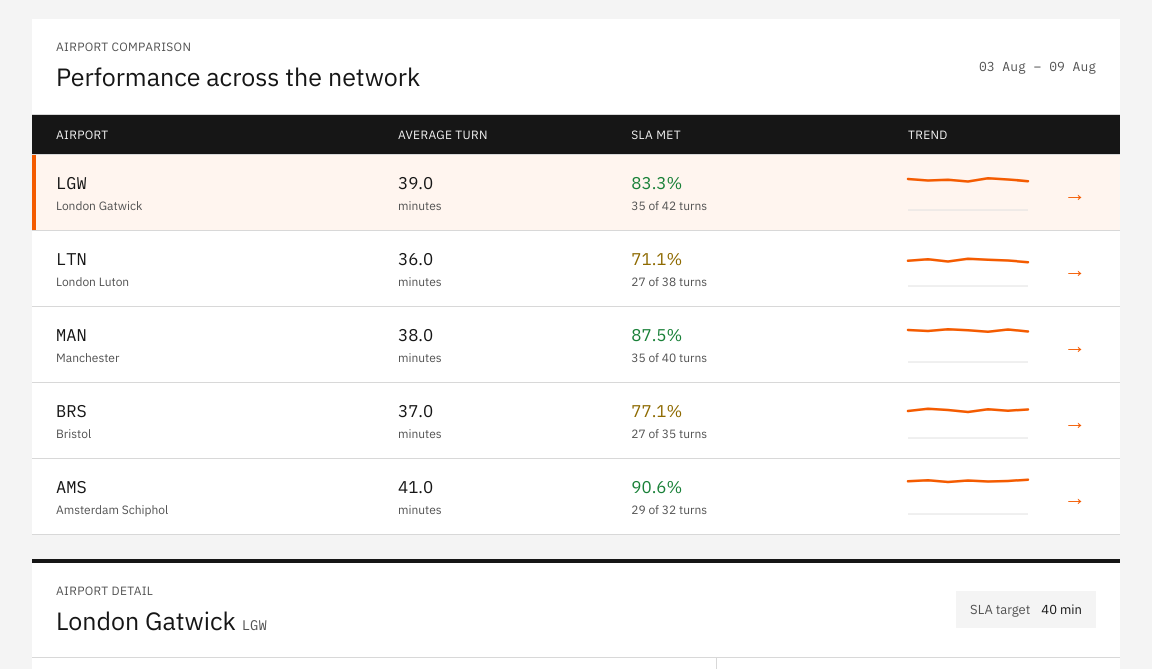
Test: aircraft turn dashboard › loads detailed turns when an airport is selected
(page scrolled)
Click the button with aria-label "View Manchester performance" at (71, 335), box [32,307,1120,383]
(page scrolled)
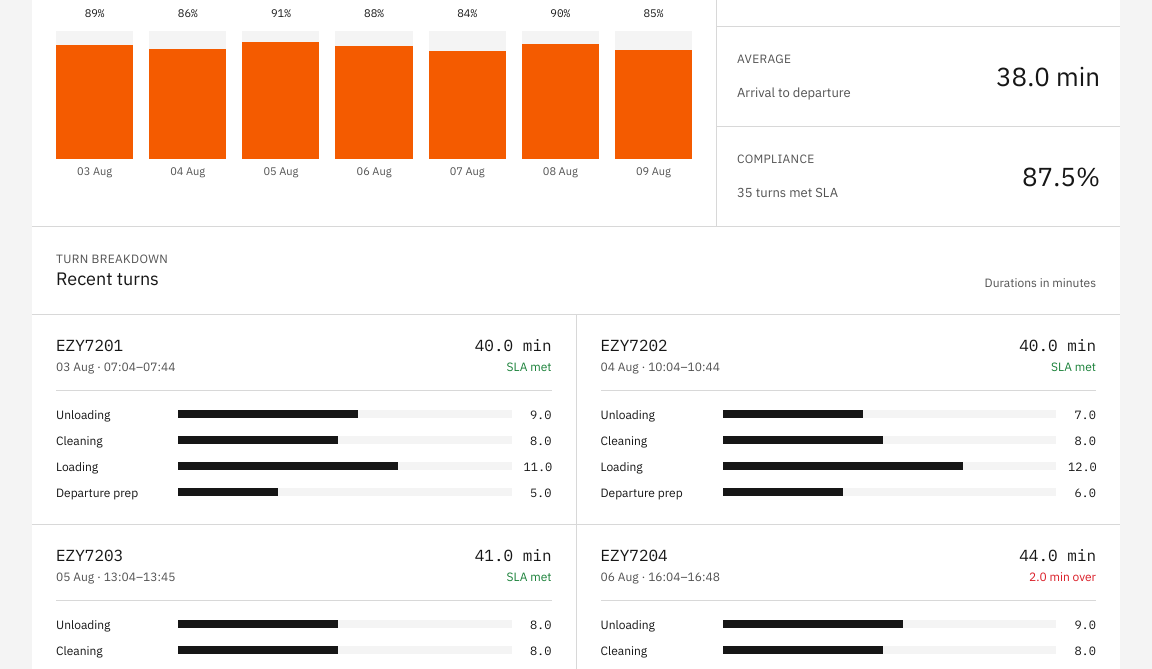
Result: the text "EZY7201" is shown at [56,335,123,355]
